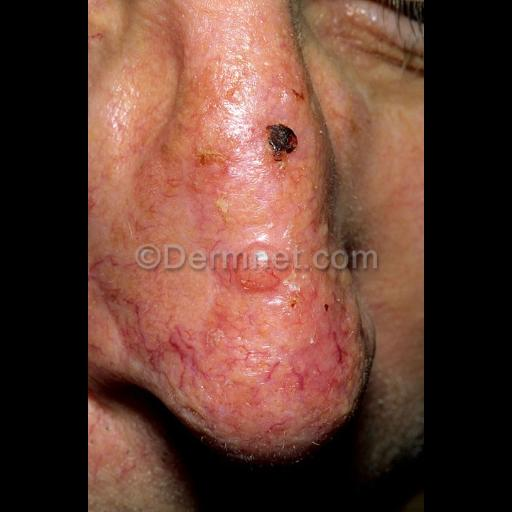Skin_Lesion: (219, 242, 299, 298), (266, 114, 298, 182)
